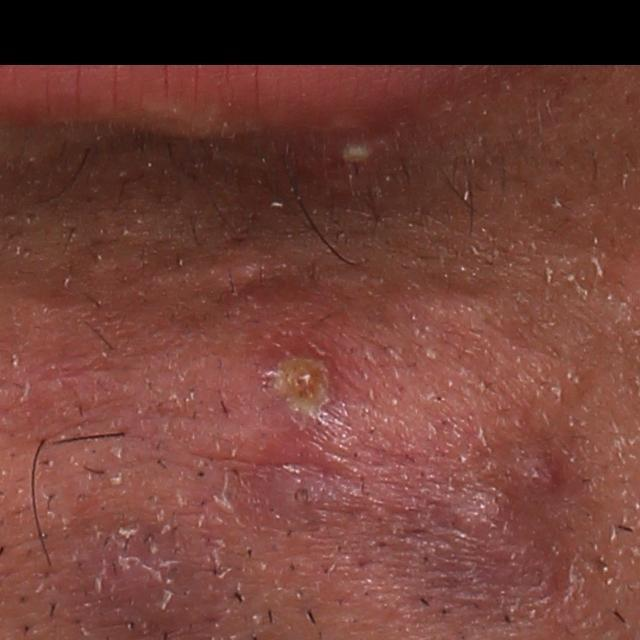papule: (261, 462, 336, 530), (439, 488, 520, 547), (500, 445, 563, 505), (204, 250, 259, 295)
pustule: (265, 338, 340, 436), (331, 142, 389, 172)
